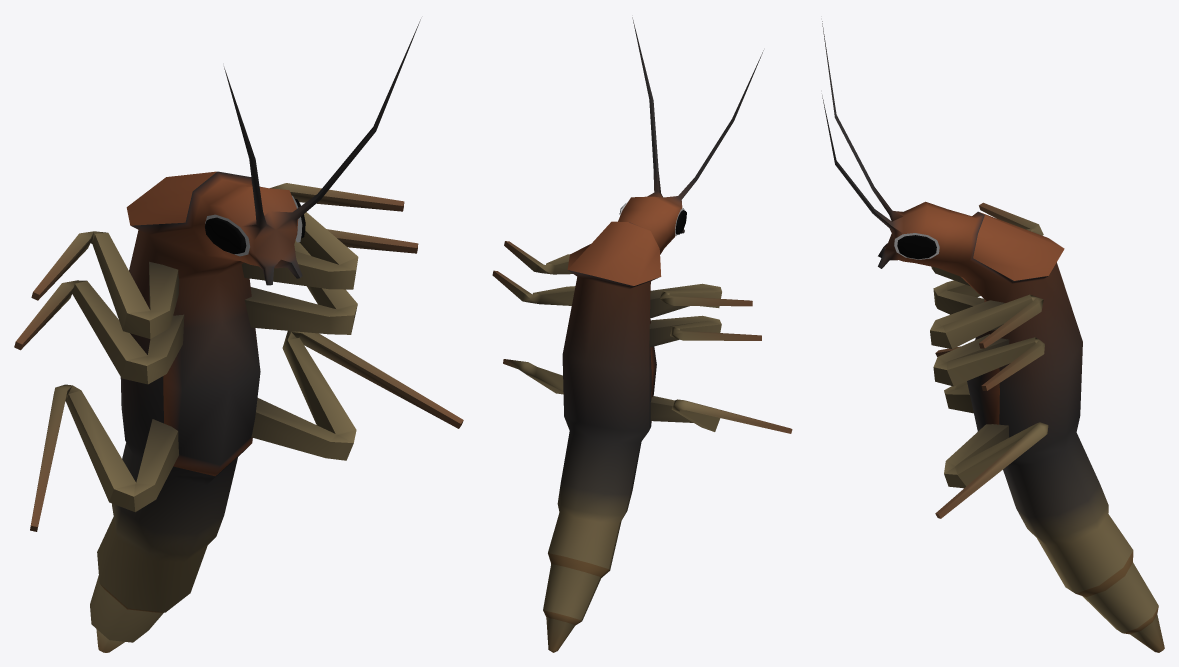
The picture shows the model from 3 angles, left to right: view 1: azimuth 30°, elevation 25°; view 2: azimuth 150°, elevation 25°; view 3: azimuth 270°, elevation 25°; orthographic projection. The views are drawn at different scales.
Visible parts, largest first — view 1: base.138; view 2: base.138; view 3: base.138.
Part boxes in pixels (x1,y1,x2,y2): base.138: (14,19,463,652); base.138: (492,17,792,652); base.138: (822,21,1164,652).
Bounding box in the file's own units: 0.2928 × 0.5 × 0.2592.
